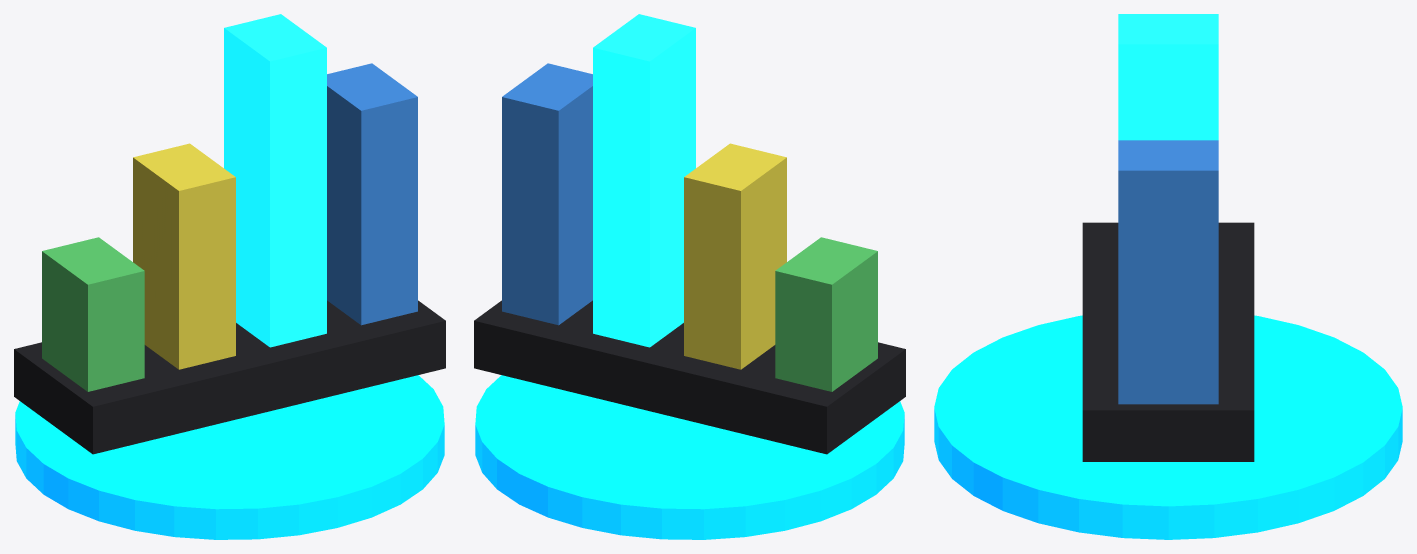
File: news_chart.glb
3 renders of one model, left to right at view 1: azimuth 30°, elevation 25°; view 2: azimuth 150°, elevation 25°; view 3: azimuth 270°, elevation 25°, orthographic. The views are drawn at different scales.
Parts seen in each view (by area): view 1: 09_14_Popular_News_Chart_ROOT_base, 09_14_Popular_News_Chart_part_04, 09_14_Popular_News_Chart_part_01, 09_14_Popular_News_Chart_part_05, 09_14_Popular_News_Chart_part_03, 09_14_Popular_News_Chart_part_02; view 2: 09_14_Popular_News_Chart_ROOT_base, 09_14_Popular_News_Chart_part_04, 09_14_Popular_News_Chart_part_01, 09_14_Popular_News_Chart_part_05, 09_14_Popular_News_Chart_part_03, 09_14_Popular_News_Chart_part_02; view 3: 09_14_Popular_News_Chart_ROOT_base, 09_14_Popular_News_Chart_part_05, 09_14_Popular_News_Chart_part_01, 09_14_Popular_News_Chart_part_04.
Boxes of the visible parts, x1=… form: 09_14_Popular_News_Chart_ROOT_base: x1=15, y1=375, x2=444, y2=539; 09_14_Popular_News_Chart_part_04: x1=224, y1=14, x2=326, y2=347; 09_14_Popular_News_Chart_part_01: x1=14, y1=300, x2=445, y2=454; 09_14_Popular_News_Chart_part_05: x1=327, y1=63, x2=417, y2=325; 09_14_Popular_News_Chart_part_03: x1=133, y1=143, x2=235, y2=369; 09_14_Popular_News_Chart_part_02: x1=42, y1=237, x2=144, y2=391; 09_14_Popular_News_Chart_ROOT_base: x1=475, y1=375, x2=904, y2=539; 09_14_Popular_News_Chart_part_04: x1=593, y1=14, x2=695, y2=347; 09_14_Popular_News_Chart_part_01: x1=474, y1=300, x2=905, y2=454; 09_14_Popular_News_Chart_part_05: x1=502, y1=63, x2=592, y2=325; 09_14_Popular_News_Chart_part_03: x1=684, y1=143, x2=786, y2=369; 09_14_Popular_News_Chart_part_02: x1=775, y1=237, x2=877, y2=391; 09_14_Popular_News_Chart_ROOT_base: x1=934, y1=315, x2=1402, y2=539; 09_14_Popular_News_Chart_part_05: x1=1118, y1=140, x2=1218, y2=404; 09_14_Popular_News_Chart_part_01: x1=1082, y1=222, x2=1254, y2=461; 09_14_Popular_News_Chart_part_04: x1=1118, y1=14, x2=1218, y2=140.
Size of the model in its own units: 0.76 by 0.7803 by 0.76.
